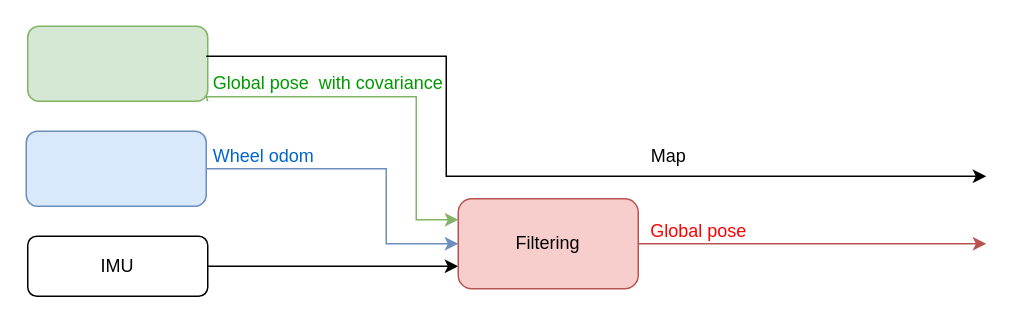
The diagram is 1025 pixels wide and 323 high, and some of its shapes have lost their labels. The shapes that lost their labels are listed below. From the top down, each one's centre as x and y in pixels, then its label:
At point (117, 63): "Tracking camera".
At point (115, 168): "Wheel odometry".
